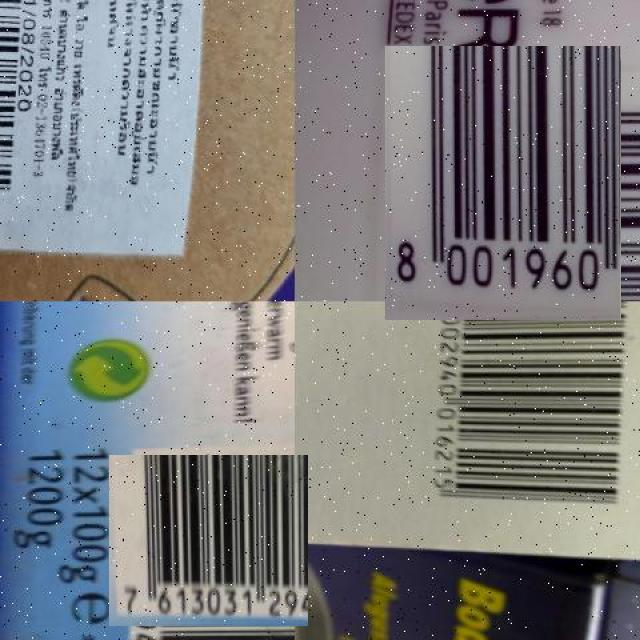Barcode: (375, 56, 630, 311), (411, 302, 640, 527), (116, 448, 301, 633), (0, 1, 42, 211)
